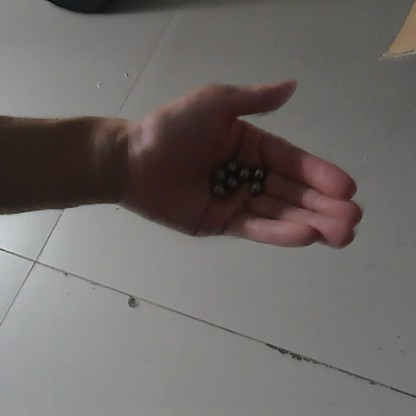ironball: (207, 182, 226, 198), (237, 163, 253, 180), (251, 164, 267, 180), (223, 159, 239, 174), (248, 179, 263, 194), (211, 166, 226, 181), (225, 176, 241, 190)
